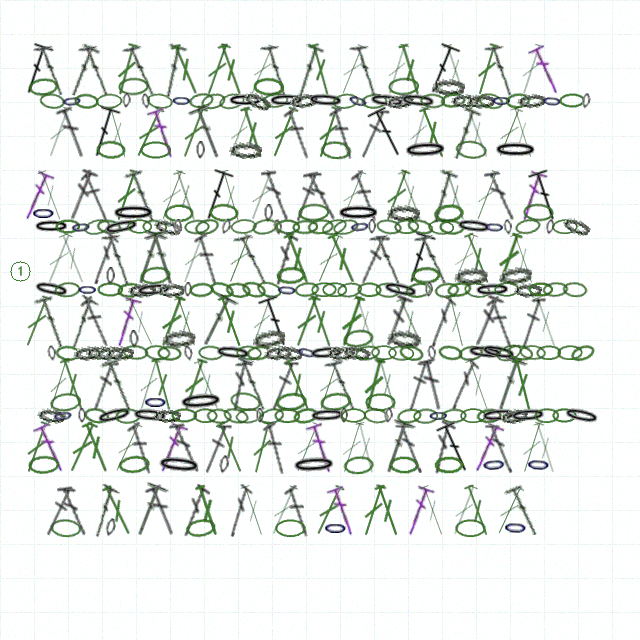chain: (156, 454, 202, 476), (178, 391, 224, 412), (291, 455, 337, 475), (403, 140, 448, 160), (251, 326, 287, 351), (95, 404, 134, 427), (102, 216, 141, 238), (381, 279, 420, 301), (562, 405, 601, 427), (32, 279, 71, 300), (479, 342, 518, 363), (493, 141, 538, 159), (111, 204, 156, 222), (336, 204, 381, 222), (498, 264, 533, 287), (229, 390, 262, 413), (242, 89, 273, 113), (49, 391, 82, 413), (455, 217, 493, 236), (466, 343, 504, 362), (162, 328, 196, 349), (387, 328, 421, 349), (561, 215, 592, 238), (185, 517, 217, 539), (139, 265, 172, 286), (342, 328, 375, 349), (319, 391, 352, 412), (368, 92, 406, 110), (399, 92, 437, 110), (135, 281, 173, 299), (214, 344, 252, 362), (308, 344, 346, 362), (454, 266, 488, 286), (455, 139, 487, 160), (275, 391, 307, 412), (118, 454, 150, 475), (495, 341, 524, 364), (131, 407, 169, 424), (480, 407, 518, 424), (509, 407, 547, 424), (320, 140, 352, 160), (50, 518, 82, 538), (320, 216, 349, 238), (307, 92, 344, 109), (309, 407, 346, 424), (28, 77, 59, 97), (433, 203, 464, 223), (343, 455, 374, 475), (208, 279, 236, 301), (569, 342, 597, 364), (385, 91, 415, 111), (153, 217, 183, 237), (499, 406, 529, 426), (432, 78, 465, 96), (229, 141, 262, 159), (387, 204, 420, 222), (474, 282, 511, 298), (118, 77, 149, 96), (253, 77, 284, 96), (388, 77, 419, 96), (298, 203, 329, 222), (523, 203, 554, 222), (28, 455, 59, 474), (193, 216, 221, 237), (240, 279, 268, 300), (255, 279, 283, 300), (96, 140, 126, 159), (209, 203, 239, 222), (276, 266, 306, 285), (411, 266, 441, 285), (263, 343, 293, 362), (218, 91, 246, 111), (83, 217, 111, 237), (332, 217, 360, 237), (406, 217, 434, 237), (222, 406, 250, 426), (140, 141, 171, 159), (365, 393, 396, 411), (275, 519, 306, 537), (455, 519, 486, 537), (227, 93, 264, 108), (268, 93, 305, 108), (33, 219, 70, 234), (289, 91, 318, 110), (342, 343, 371, 362), (200, 91, 227, 111), (477, 91, 504, 111), (164, 204, 194, 222), (398, 343, 425, 363), (258, 406, 285, 426), (389, 456, 419, 474), (434, 456, 464, 474), (251, 217, 279, 236), (514, 217, 542, 236), (506, 343, 534, 362), (73, 344, 102, 362), (95, 344, 124, 362), (188, 91, 215, 110), (446, 280, 473, 299), (83, 406, 110, 425), (292, 406, 319, 425), (375, 218, 403, 236), (463, 281, 491, 299), (481, 455, 507, 474), (517, 92, 546, 109), (37, 407, 66, 424), (146, 92, 173, 110), (332, 92, 359, 110), (336, 281, 363, 299), (405, 281, 432, 299), (354, 344, 381, 362), (437, 344, 464, 362), (235, 407, 262, 425), (396, 407, 423, 425), (346, 91, 370, 111), (526, 455, 551, 474), (503, 518, 528, 537), (39, 92, 65, 110), (96, 218, 122, 236), (225, 281, 251, 299), (434, 281, 460, 299), (246, 344, 272, 362), (458, 344, 484, 362), (363, 407, 389, 425), (262, 92, 289, 109), (230, 218, 257, 235), (307, 218, 334, 235), (54, 281, 81, 298), (542, 281, 569, 298), (122, 344, 149, 361), (144, 344, 171, 361), (519, 344, 546, 361), (295, 343, 319, 362), (31, 204, 56, 222), (143, 393, 168, 411), (323, 519, 348, 537), (467, 93, 495, 109), (128, 282, 156, 298), (157, 282, 185, 298), (514, 282, 542, 298), (106, 345, 134, 361), (275, 345, 303, 361), (327, 345, 355, 361), (440, 92, 466, 109), (505, 92, 531, 109), (294, 281, 320, 298), (562, 281, 588, 298), (361, 93, 388, 109), (451, 93, 479, 108), (86, 345, 114, 360), (153, 408, 181, 423), (96, 93, 122, 109), (184, 219, 210, 235), (292, 219, 318, 235), (428, 219, 454, 235), (188, 282, 214, 298), (55, 345, 81, 361), (198, 345, 224, 361), (236, 345, 262, 361), (388, 345, 414, 361), (115, 408, 141, 424), (206, 408, 232, 424), (441, 408, 467, 424), (476, 408, 502, 424), (74, 93, 99, 109), (420, 93, 445, 109), (142, 219, 167, 235), (439, 219, 464, 235), (117, 282, 142, 298), (375, 282, 400, 298), (157, 345, 182, 361), (413, 408, 438, 424), (559, 93, 585, 108), (552, 219, 578, 234), (97, 282, 123, 297), (311, 282, 337, 297), (371, 345, 397, 360), (557, 345, 583, 360), (171, 408, 197, 423), (274, 408, 300, 423), (460, 408, 486, 423), (55, 219, 80, 234), (127, 219, 152, 234), (275, 219, 300, 234), (394, 219, 419, 234), (322, 282, 347, 297), (357, 282, 382, 297), (494, 282, 519, 297), (528, 282, 553, 297), (536, 345, 561, 360), (193, 408, 218, 423), (341, 408, 366, 423), (534, 408, 559, 423), (552, 408, 577, 423), (349, 218, 371, 235), (52, 407, 74, 424), (61, 93, 83, 109), (541, 93, 563, 109), (70, 219, 92, 235), (276, 282, 298, 298), (484, 219, 505, 235), (171, 93, 192, 108), (491, 93, 512, 108), (77, 282, 98, 297), (428, 408, 449, 423), (104, 518, 117, 537), (218, 455, 230, 474), (220, 219, 232, 235), (129, 330, 139, 348), (183, 345, 194, 361), (196, 141, 205, 159), (264, 204, 273, 222), (106, 267, 115, 285), (141, 93, 151, 109), (581, 93, 591, 109), (273, 219, 283, 235), (503, 219, 513, 235), (545, 219, 555, 235), (47, 345, 57, 361), (427, 345, 437, 361), (122, 93, 131, 108), (173, 219, 182, 234), (384, 408, 393, 423), (368, 219, 376, 234), (184, 282, 192, 297), (425, 282, 433, 297), (78, 408, 86, 423), (256, 408, 264, 423), (340, 408, 348, 423)
double: (195, 293, 239, 350), (366, 104, 409, 161), (435, 419, 476, 476), (422, 41, 462, 98), (188, 104, 228, 161), (129, 482, 169, 539), (62, 42, 101, 98), (233, 231, 272, 287), (503, 483, 542, 539), (130, 230, 168, 287), (144, 230, 182, 287), (257, 293, 295, 350), (490, 356, 528, 413), (378, 419, 416, 476), (121, 294, 160, 349), (98, 483, 137, 538), (122, 42, 160, 98), (414, 231, 452, 287), (18, 41, 55, 98), (198, 167, 235, 224), (527, 167, 564, 224), (130, 105, 168, 160), (392, 294, 430, 349), (63, 420, 101, 475), (108, 420, 146, 475), (310, 483, 348, 538), (490, 483, 528, 538), (445, 105, 482, 161), (369, 231, 406, 287), (99, 357, 136, 413), (324, 357, 361, 413), (86, 104, 122, 161), (401, 230, 437, 287), (167, 42, 204, 97), (527, 42, 564, 97), (310, 231, 347, 286), (324, 231, 361, 286), (32, 420, 69, 475), (212, 420, 249, 475), (144, 483, 181, 538), (265, 483, 302, 538), (33, 42, 69, 98), (78, 42, 114, 98), (289, 42, 325, 98), (123, 168, 159, 224), (64, 294, 100, 350), (235, 357, 271, 413), (244, 42, 280, 97), (334, 42, 370, 97), (55, 105, 91, 160), (266, 105, 302, 160), (415, 105, 451, 160), (491, 105, 527, 160), (19, 168, 55, 223), (334, 168, 370, 223), (41, 231, 77, 286), (55, 231, 91, 286), (221, 231, 257, 286), (446, 231, 482, 286), (460, 231, 496, 286), (19, 294, 55, 349), (469, 294, 505, 349), (280, 357, 316, 412), (78, 420, 114, 475), (289, 420, 325, 475), (469, 420, 505, 475), (446, 483, 482, 538), (424, 168, 459, 224), (33, 294, 68, 350), (176, 105, 211, 160), (460, 105, 495, 160), (33, 168, 68, 223), (64, 168, 99, 223), (154, 168, 189, 223), (244, 168, 279, 223), (379, 168, 414, 223), (469, 168, 504, 223), (176, 231, 211, 286), (280, 231, 315, 286), (154, 294, 189, 349), (289, 294, 324, 349), (190, 357, 225, 412), (154, 420, 189, 475), (415, 483, 450, 538), (460, 483, 495, 538), (484, 42, 518, 98), (101, 231, 135, 287), (87, 483, 121, 539), (303, 169, 338, 223), (176, 484, 211, 538), (200, 42, 234, 97), (214, 42, 248, 97), (42, 105, 76, 160), (222, 105, 256, 160), (169, 168, 203, 223), (394, 168, 428, 223), (492, 231, 526, 286), (506, 231, 540, 286), (169, 294, 203, 349), (214, 294, 248, 349), (304, 294, 338, 349), (335, 294, 369, 349), (380, 294, 414, 349), (529, 294, 563, 349), (56, 357, 90, 412), (177, 357, 211, 412), (461, 357, 495, 412), (20, 420, 54, 475), (236, 483, 270, 538), (371, 483, 405, 538), (78, 169, 113, 222), (446, 358, 481, 411), (349, 42, 382, 98), (42, 484, 76, 538), (439, 42, 472, 97), (515, 42, 548, 97), (146, 105, 179, 160), (236, 105, 269, 160), (312, 105, 345, 160), (506, 105, 539, 160), (110, 168, 143, 223), (439, 168, 472, 223), (245, 294, 278, 349), (349, 294, 382, 349), (312, 357, 345, 412), (335, 420, 368, 475), (515, 420, 548, 475), (529, 420, 562, 475), (191, 483, 224, 538), (326, 483, 359, 538), (357, 483, 390, 538), (402, 483, 435, 538), (79, 295, 113, 348), (156, 42, 188, 98), (260, 42, 292, 98), (357, 106, 390, 160), (349, 169, 382, 223), (484, 169, 517, 223), (357, 232, 390, 286), (425, 295, 458, 349), (169, 421, 202, 475), (381, 42, 413, 97), (471, 42, 503, 97), (516, 168, 548, 223), (305, 420, 337, 475), (282, 106, 314, 160), (88, 232, 120, 286), (485, 295, 517, 349), (57, 484, 89, 538), (111, 42, 142, 97), (305, 42, 336, 97), (395, 42, 426, 97), (102, 105, 133, 160), (403, 105, 434, 160), (215, 168, 246, 223), (111, 294, 142, 349), (43, 357, 74, 412), (133, 357, 164, 412), (147, 357, 178, 412), (372, 357, 403, 412), (268, 232, 299, 286), (268, 358, 299, 412), (201, 421, 232, 475), (395, 421, 426, 475), (485, 421, 516, 475), (261, 168, 291, 223), (441, 294, 471, 349), (359, 357, 389, 412), (418, 357, 448, 412), (508, 357, 538, 412), (247, 420, 277, 475), (351, 420, 381, 475), (292, 169, 322, 223), (89, 358, 119, 412), (126, 421, 156, 475), (224, 484, 254, 538), (283, 484, 313, 538), (427, 420, 456, 475), (328, 106, 357, 160), (193, 232, 222, 286), (225, 357, 253, 412), (518, 295, 546, 349), (405, 358, 432, 412), (262, 421, 289, 475)
noise: (8, 259, 32, 283)
